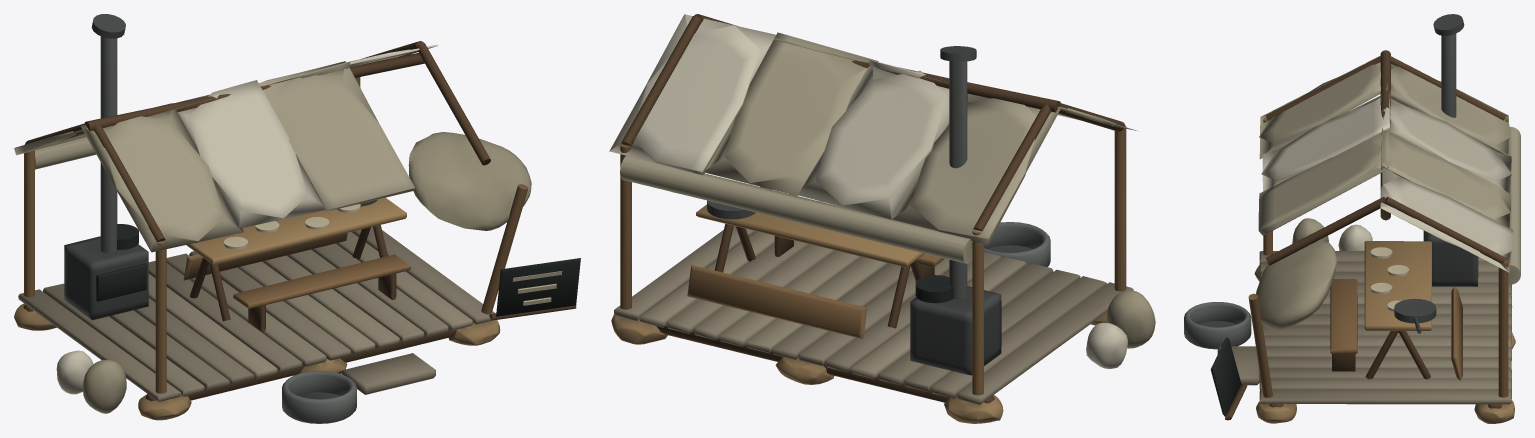
File: crew_cookshack_b.glb
3 renders of one model, left to right at view 1: azimuth 30°, elevation 25°; view 2: azimuth 150°, elevation 25°; view 3: azimuth 270°, elevation 25°, orthographic. The views are drawn at different scales.
Visible parts, largest first — view 1: Surface; view 2: Surface; view 3: Surface.
Boxes of the visible parts, <box> form: Surface: <box>14,14,580,423</box>; Surface: <box>609,14,1155,423</box>; Surface: <box>1184,14,1520,423</box>.
Bounding box in the file's own units: 5.48 × 3.75 × 4.01.
